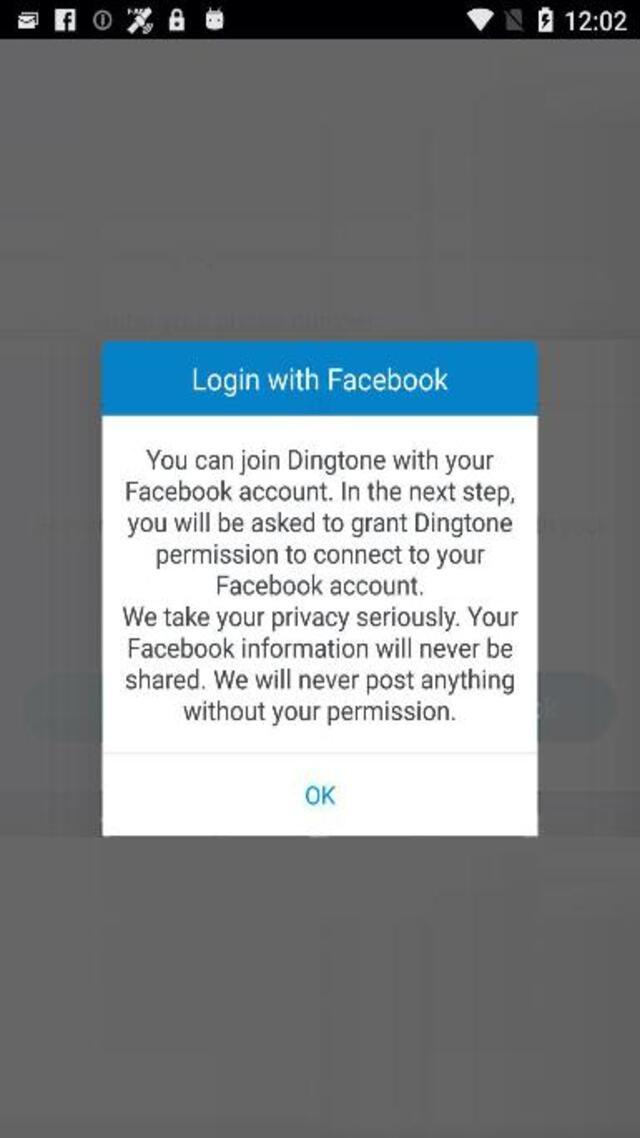Text: (121, 666, 518, 697), (120, 605, 520, 634), (122, 479, 521, 508), (122, 511, 515, 539), (123, 635, 518, 662), (143, 447, 494, 475), (151, 543, 486, 570), (188, 367, 453, 397), (180, 700, 458, 727), (214, 572, 426, 600), (299, 780, 340, 809)
TextButton: (104, 754, 538, 836)
